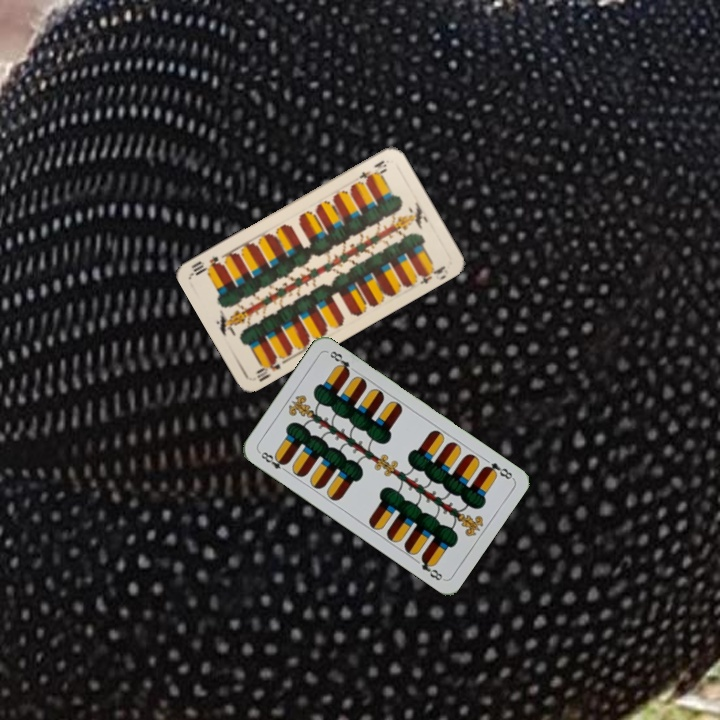E10: (252, 351, 286, 384), (355, 156, 389, 183)
E8: (255, 447, 291, 476), (479, 458, 515, 482)
